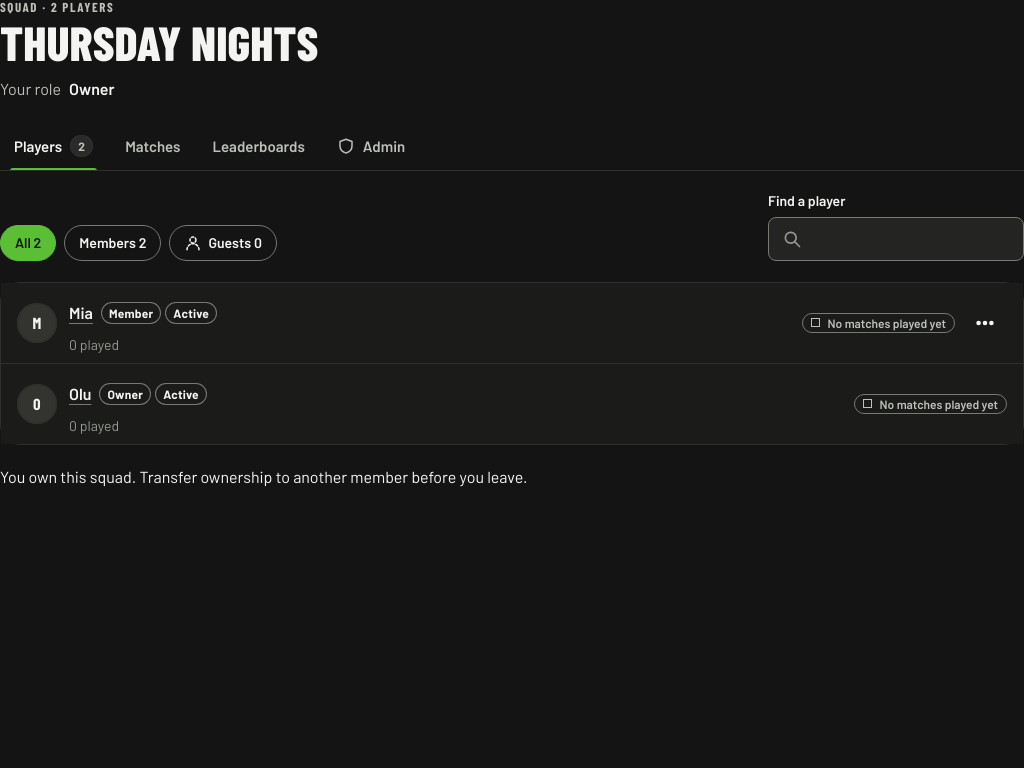
Test: the Squad_Screen membership actions › never announces promotion and demotion together on one row
Click the button named "Actions for Mia" at (985, 323), box [963,301,1007,345]
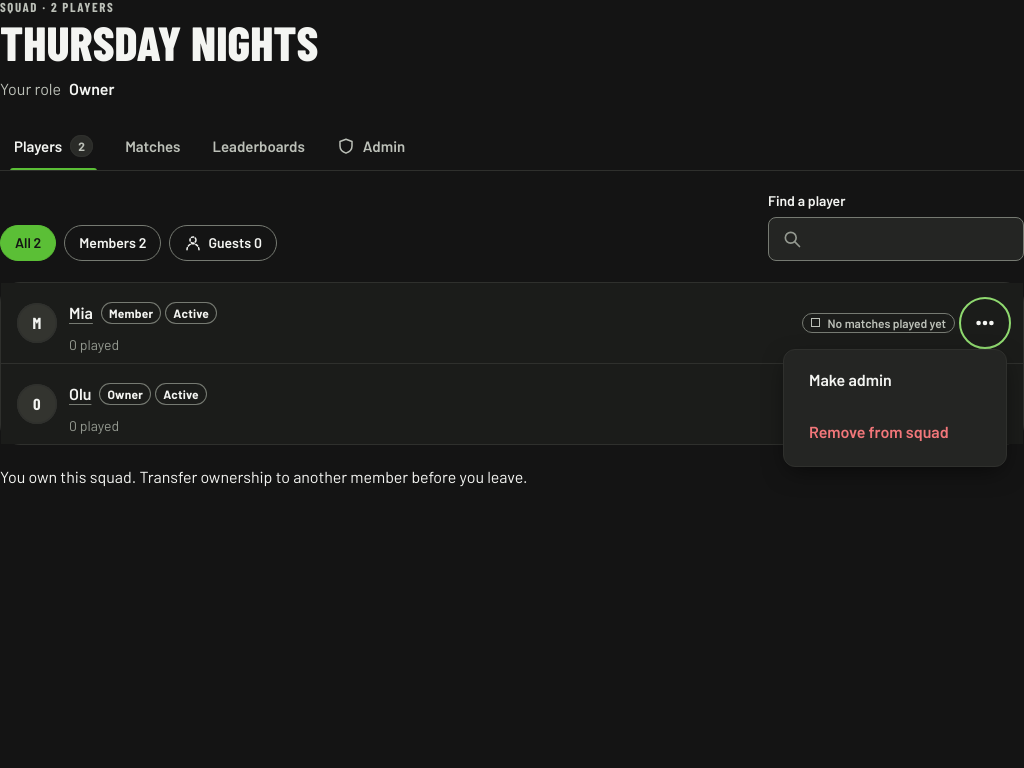
Click the button "Make admin" at (895, 380), box [792,358,998,402]
(page scrolled)
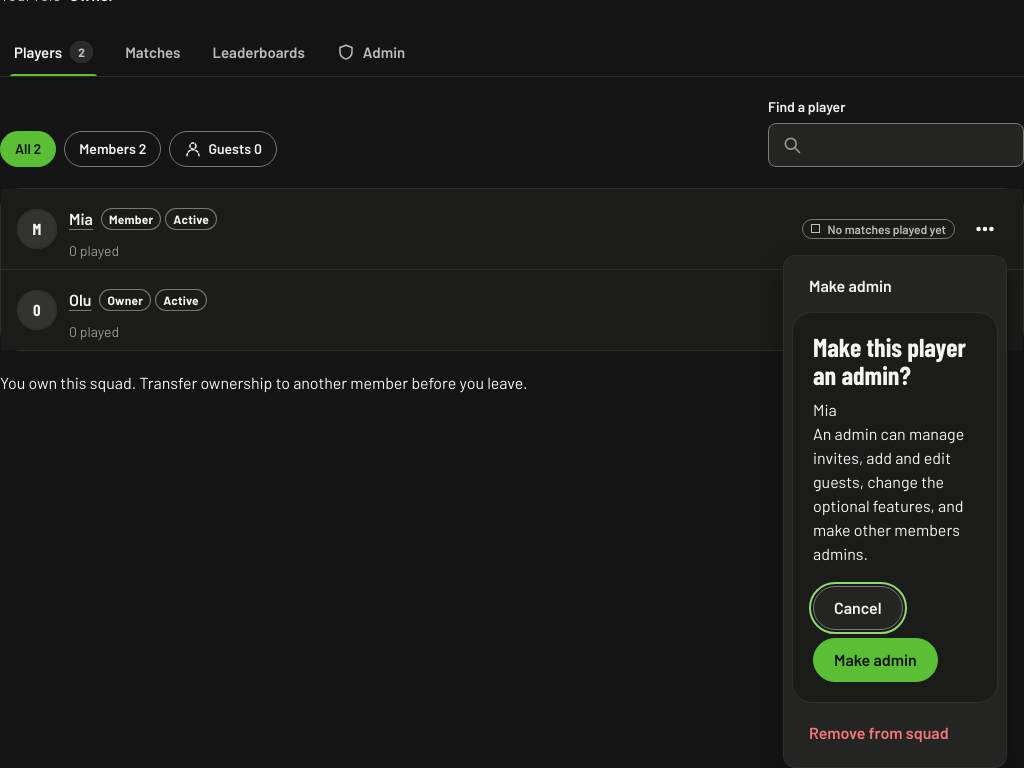
Click the button "Make admin" below "Make this player an admin?" at (875, 660), box [813,638,938,682]
(page scrolled)
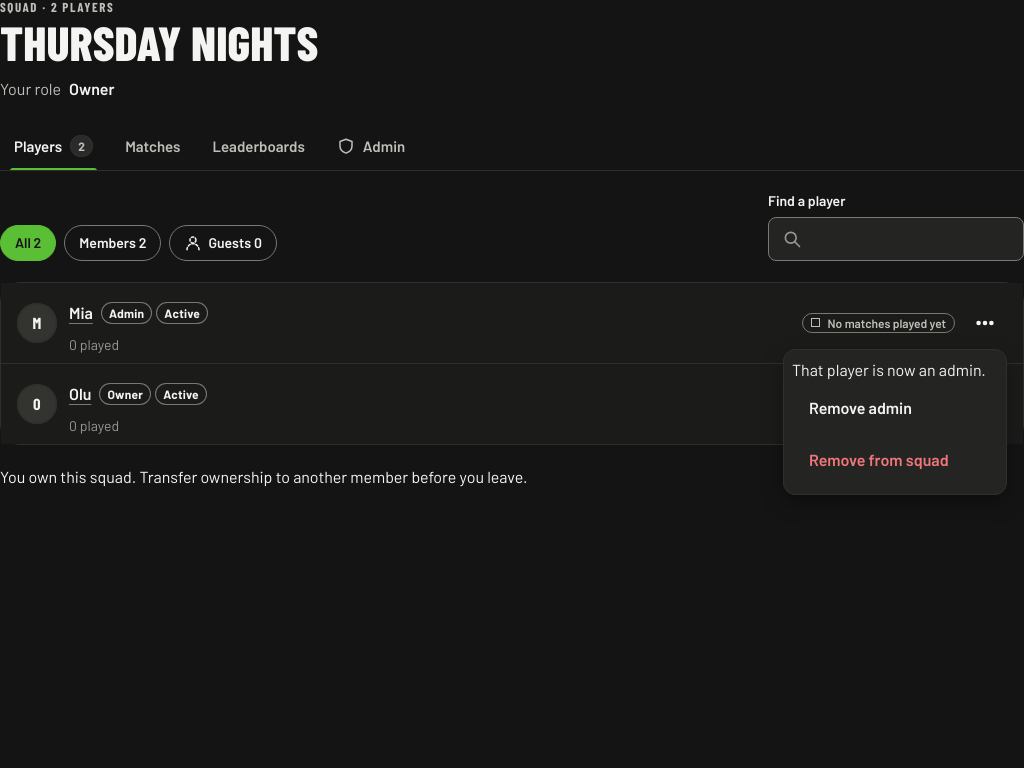
Result: the text "That player is now an admin." is shown at [792,358,998,382]
Click the button "Remove admin" at (895, 408), box [792,386,998,430]
(page scrolled)
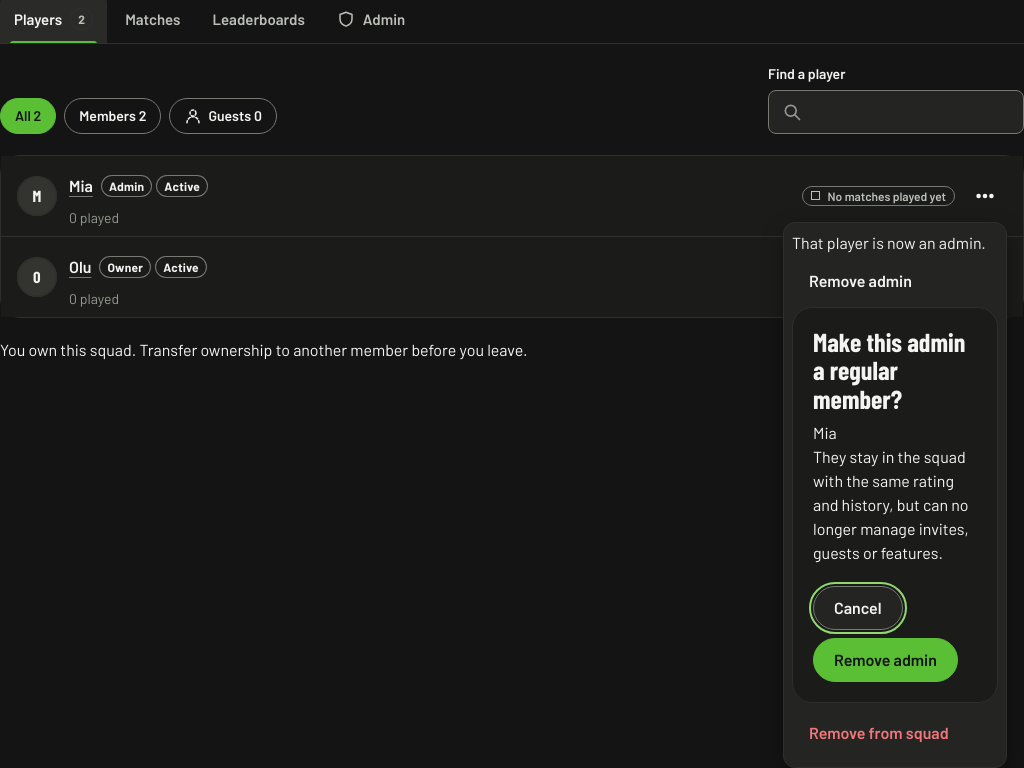
Click the button "Remove admin" below "Make this admin a regular member?" at (885, 660), box [813,638,958,682]
(page scrolled)
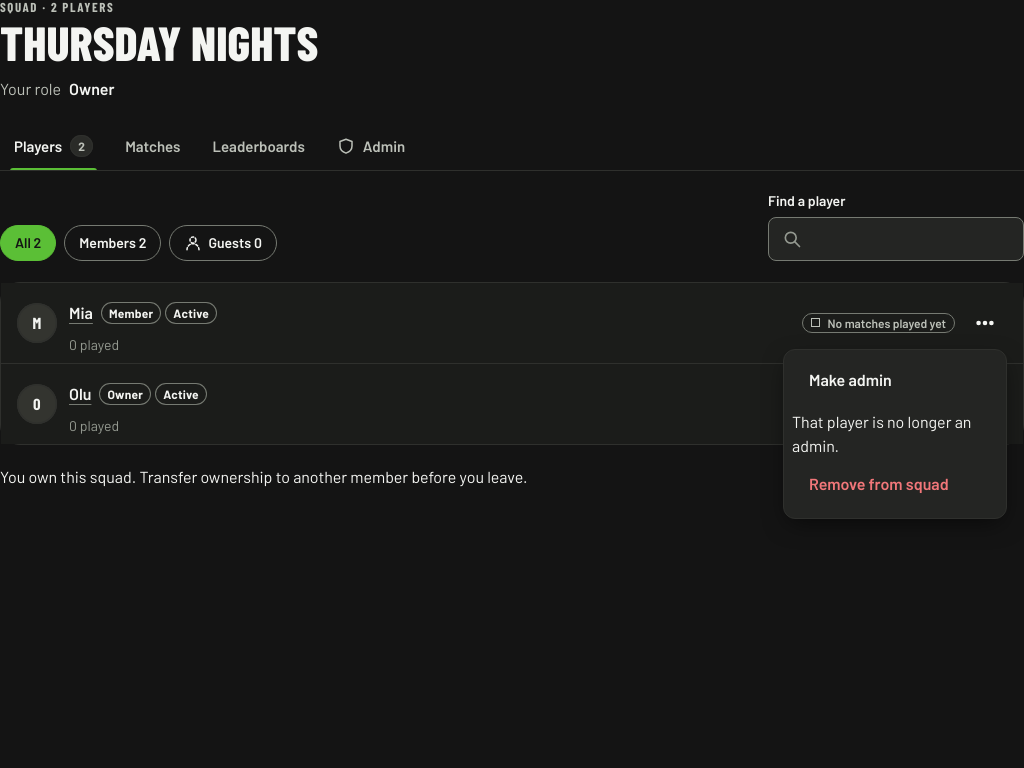
Result: the text "That player is no longer an admin." is shown at [792,410,998,458]
Result: the text "That player is now an admin." is gone
